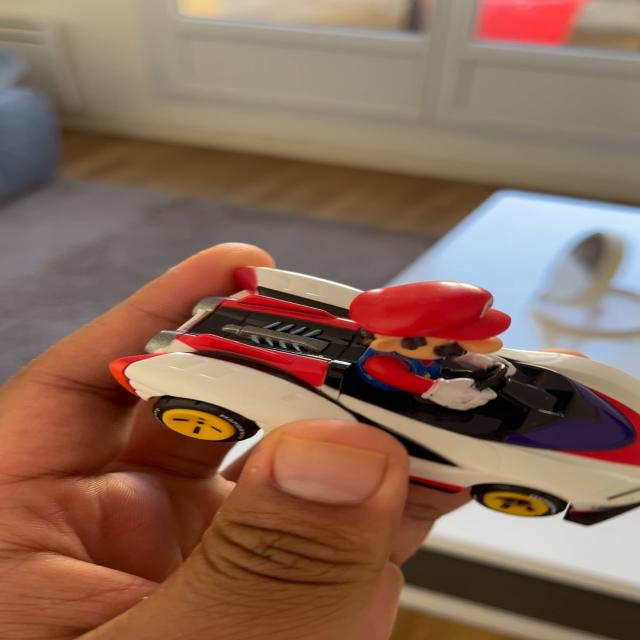mario: (81, 248, 640, 535)
